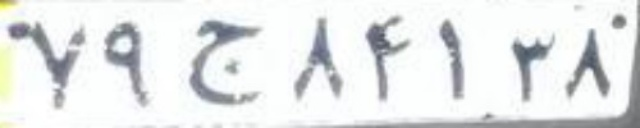1: (435, 18, 467, 100)
3: (511, 27, 556, 102)
4: (363, 14, 411, 102)
7: (28, 19, 87, 109)
8: (290, 17, 346, 101), (562, 27, 612, 101)
9: (99, 21, 151, 107)
jim: (190, 21, 270, 104)
